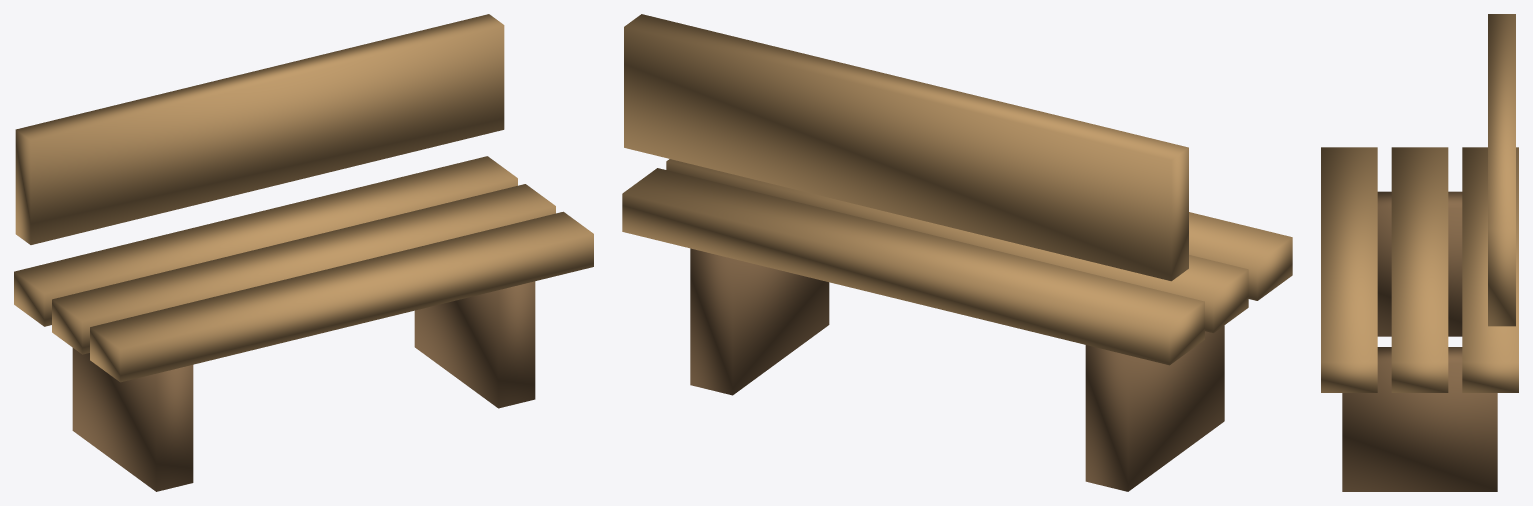
File: prop-bench.glb
The picture shows the model from 3 angles, left to right: view 1: azimuth 30°, elevation 25°; view 2: azimuth 150°, elevation 25°; view 3: azimuth 270°, elevation 25°; orthographic projection. The views are drawn at different scales.
Parts seen in each view (by area): view 1: prop-bench_wood, prop-bench_bark; view 2: prop-bench_wood, prop-bench_bark; view 3: prop-bench_wood, prop-bench_bark.
Boxes of the visible parts, x1,y1,x2,y2 form: prop-bench_wood: [14, 14, 593, 382]; prop-bench_bark: [72, 281, 535, 491]; prop-bench_wood: [622, 14, 1292, 365]; prop-bench_bark: [690, 248, 1224, 491]; prop-bench_wood: [1321, 14, 1518, 392]; prop-bench_bark: [1342, 191, 1497, 491].
Bounding box in the file's own units: 1.8 × 1.11 × 0.7.
